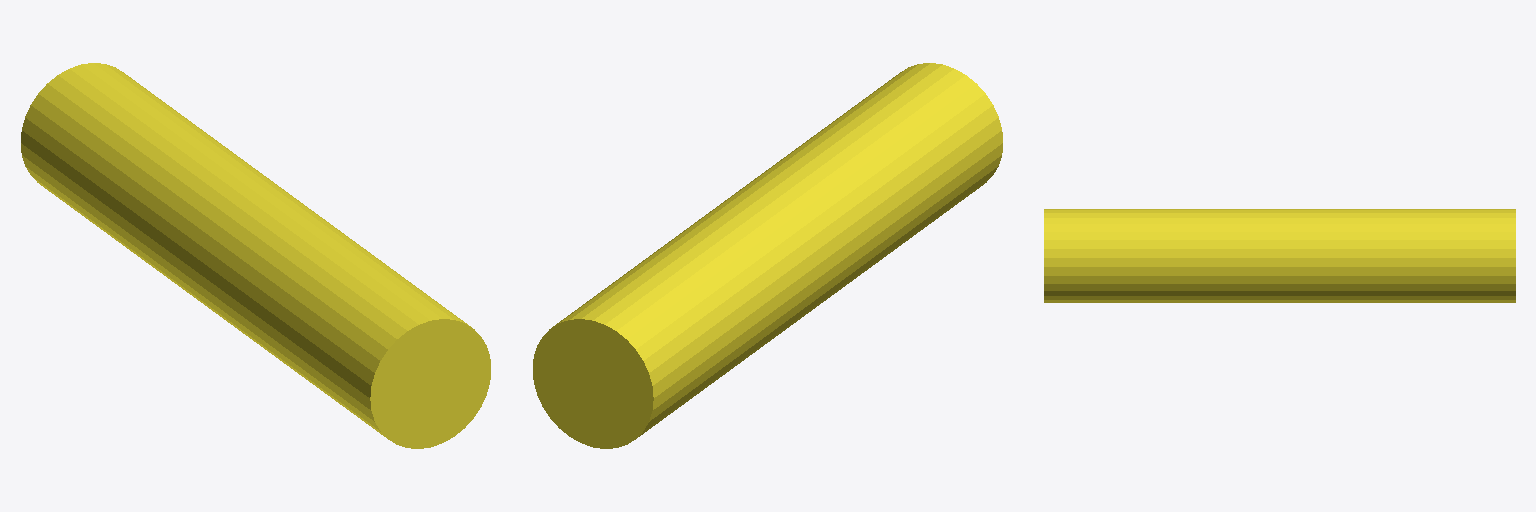
robot.urdf — ur5e:
<?xml version="1.0" encoding="utf-8"?>
<!-- =================================================================================== -->
<!-- |    This document was autogenerated by xacro from ur5e_robot.urdf.xacro          | -->
<!-- |    EDITING THIS FILE BY HAND IS NOT RECOMMENDED                                 | -->
<!-- =================================================================================== -->
<robot name="ur5e" xmlns:xacro="http://ros.org/wiki/xacro">
  <link name="base_link">
    <visual>
      <geometry>
        <mesh filename="../meshes/ur5e/visual/base.dae"/>
      </geometry>
      <material name="LightGrey">
        <color rgba="0.7 0.7 0.7 1.0"/>
      </material>
    </visual>
    <collision>
      <geometry>
        <mesh filename="../meshes/ur5e/collision/base.stl" scale="1.0 1.0 1.0"/>
      </geometry>
    </collision>
    <inertial>
      <mass value="4.0"/>
      <origin rpy="0 0 0" xyz="0.0 0.0 0.0"/>
      <inertia ixx="0.00443333156" ixy="0.0" ixz="0.0" iyy="0.00443333156" iyz="0.0" izz="0.0072"/>
    </inertial>
  </link>
  <joint name="shoulder_pan_joint" type="revolute">
    <parent link="base_link"/>
    <child link="shoulder_link"/>
    <origin rpy="0.0 0.0 0.0" xyz="0.0 0.0 0.163"/>
    <axis xyz="0 0 1"/>
    <limit effort="150.0" lower="-6.28318530718" upper="6.28318530718" velocity="3.14"/>
    <dynamics damping="0.0" friction="0.0"/>
  </joint>
  <link name="shoulder_link">
    <visual>
      <geometry>
        <mesh filename="../meshes/ur5e/visual/shoulder.dae"/>
      </geometry>
      <material name="LightGrey">
        <color rgba="0.7 0.7 0.7 1.0"/>
      </material>
    </visual>
    <collision>
      <geometry>
        <mesh filename="../meshes/ur5e/collision/shoulder.stl" scale="1.0 1.0 1.0"/>
      </geometry>
    </collision>
    <inertial>
      <mass value="3.7"/>
      <origin rpy="0 0 0" xyz="0.0 0.0 0.0"/>
      <inertia ixx="0.010267495893" ixy="0.0" ixz="0.0" iyy="0.010267495893" iyz="0.0" izz="0.00666"/>
    </inertial>
  </link>
  <joint name="shoulder_lift_joint" type="revolute">
    <parent link="shoulder_link"/>
    <child link="upper_arm_link"/>
    <origin rpy="0.0 1.57079632679 0.0" xyz="0.0 0.138 0.0"/>
    <axis xyz="0 1 0"/>
    <limit effort="150.0" lower="-6.28318530718" upper="6.28318530718" velocity="3.14"/>
    <dynamics damping="0.0" friction="0.0"/>
  </joint>
  <link name="upper_arm_link">
    <visual>
      <geometry>
        <mesh filename="../meshes/ur5e/visual/upperarm.dae"/>
      </geometry>
      <material name="LightGrey">
        <color rgba="0.7 0.7 0.7 1.0"/>
      </material>
    </visual>
    <collision>
      <geometry>
        <mesh filename="../meshes/ur5e/collision/upperarm.stl" scale="1.0 1.0 1.0"/>
      </geometry>
    </collision>
    <inertial>
      <mass value="8.393"/>
      <origin rpy="0 0 0" xyz="0.0 0.0 0.2125"/>
      <inertia ixx="0.133885781862" ixy="0.0" ixz="0.0" iyy="0.133885781862" iyz="0.0" izz="0.0151074"/>
    </inertial>
  </link>
  <joint name="elbow_joint" type="revolute">
    <parent link="upper_arm_link"/>
    <child link="forearm_link"/>
    <origin rpy="0.0 0.0 0.0" xyz="0.0 -0.131 0.425"/>
    <axis xyz="0 1 0"/>
    <limit effort="150.0" lower="-3.14159265359" upper="3.14159265359" velocity="3.14"/>
    <dynamics damping="0.0" friction="0.0"/>
  </joint>
  <link name="forearm_link">
    <visual>
      <geometry>
        <mesh filename="../meshes/ur5e/visual/forearm.dae"/>
      </geometry>
      <material name="LightGrey">
        <color rgba="0.7 0.7 0.7 1.0"/>
      </material>
    </visual>
    <collision>
      <geometry>
        <mesh filename="../meshes/ur5e/collision/forearm.stl" scale="1.0 1.0 1.0"/>
      </geometry>
    </collision>
    <inertial>
      <mass value="2.275"/>
      <origin rpy="0 0 0" xyz="0.0 0.0 0.196"/>
      <inertia ixx="0.0311796208615" ixy="0.0" ixz="0.0" iyy="0.0311796208615" iyz="0.0" izz="0.004095"/>
    </inertial>
  </link>
  <joint name="wrist_1_joint" type="revolute">
    <parent link="forearm_link"/>
    <child link="wrist_1_link"/>
    <origin rpy="0.0 1.57079632679 0.0" xyz="0.0 0.0 0.392"/>
    <axis xyz="0 1 0"/>
    <limit effort="28.0" lower="-6.28318530718" upper="6.28318530718" velocity="6.28"/>
    <dynamics damping="0.0" friction="0.0"/>
  </joint>
  <link name="wrist_1_link">
    <visual>
      <geometry>
        <mesh filename="../meshes/ur5e/visual/wrist1.dae"/>
      </geometry>
      <material name="LightGrey">
        <color rgba="0.7 0.7 0.7 1.0"/>
      </material>
    </visual>
    <collision>
      <geometry>
        <mesh filename="../meshes/ur5e/collision/wrist1.stl" scale="1.0 1.0 1.0"/>
      </geometry>
    </collision>
    <inertial>
      <mass value="1.219"/>
      <origin rpy="0 0 0" xyz="0.0 0.127 0.0"/>
      <inertia ixx="0.00255989897604" ixy="0.0" ixz="0.0" iyy="0.00255989897604" iyz="0.0" izz="0.0021942"/>
    </inertial>
  </link>
  <joint name="wrist_2_joint" type="revolute">
    <parent link="wrist_1_link"/>
    <child link="wrist_2_link"/>
    <origin rpy="0.0 0.0 0.0" xyz="0.0 0.127 0.0"/>
    <axis xyz="0 0 1"/>
    <limit effort="28.0" lower="-6.28318530718" upper="6.28318530718" velocity="6.28"/>
    <dynamics damping="0.0" friction="0.0"/>
  </joint>
  <link name="wrist_2_link">
    <visual>
      <geometry>
        <mesh filename="../meshes/ur5e/visual/wrist2.dae"/>
      </geometry>
      <material name="LightGrey">
        <color rgba="0.7 0.7 0.7 1.0"/>
      </material>
    </visual>
    <collision>
      <geometry>
        <mesh filename="../meshes/ur5e/collision/wrist2.stl" scale="1.0 1.0 1.0"/>
      </geometry>
    </collision>
    <inertial>
      <mass value="1.219"/>
      <origin rpy="0 0 0" xyz="0.0 0.0 0.1"/>
      <inertia ixx="0.00255989897604" ixy="0.0" ixz="0.0" iyy="0.00255989897604" iyz="0.0" izz="0.0021942"/>
    </inertial>
  </link>
  <joint name="wrist_3_joint" type="revolute">
    <parent link="wrist_2_link"/>
    <child link="wrist_3_link"/>
    <origin rpy="0.0 0.0 0.0" xyz="0.0 0.0 0.1"/>
    <axis xyz="0 1 0"/>
    <limit effort="28.0" lower="-6.28318530718" upper="6.28318530718" velocity="6.28"/>
    <dynamics damping="0.0" friction="0.0"/>
  </joint>
  <link name="wrist_3_link">
    <visual>
      <geometry>
        <mesh filename="../meshes/ur5e/visual/wrist3.dae"/>
      </geometry>
      <material name="LightGrey">
        <color rgba="0.7 0.7 0.7 1.0"/>
      </material>
    </visual>
    <collision>
      <geometry>
        <mesh filename="../meshes/ur5e/collision/wrist3.stl" scale="1.0 1.0 1.0"/>
      </geometry>
    </collision>
    <inertial>
      <mass value="0.1879"/>
      <origin rpy="1.57079632679 0 0" xyz="0.0 0.0771 0.0"/>
      <inertia ixx="9.89041005217e-05" ixy="0.0" ixz="0.0" iyy="9.89041005217e-05" iyz="0.0" izz="0.0001321171875"/>
    </inertial>
  </link>
  <joint name="ee_fixed_joint" type="fixed">
    <parent link="wrist_3_link"/>
    <child link="ee_link"/>
    <origin rpy="0.0 0.0 1.57079632679" xyz="0.0 0.1 0.0"/>
  </joint>
  <link name="ee_link">
    <collision>
      <geometry>
        <box size="0.01 0.01 0.01"/>
      </geometry>
      <origin rpy="0 0 0" xyz="-0.01 0 0"/>
    </collision>
  </link>
  <!-- ROS base_link to UR 'Base' Coordinates transform -->
  <link name="base"/>
  <joint name="base_link-base_fixed_joint" type="fixed">
    <!-- NOTE: this rotation is only needed as long as base_link itself is
                 not corrected wrt the real robot (ie: rotated over 180
                 degrees)
      -->
    <origin rpy="0 0 -3.14159265359" xyz="0 0 0"/>
    <parent link="base_link"/>
    <child link="base"/>
  </joint>
  <!-- Frame coincident with all-zeros TCP on UR controller -->
  <link name="tool0"/>
  <joint name="wrist_3_link-tool0_fixed_joint" type="fixed">
    <origin rpy="-1.57079632679 0 0" xyz="0 0.1 0"/>
    <parent link="wrist_3_link"/>
    <child link="tool0"/>
  </joint>
  <link name="world"/>
  <joint name="world_joint" type="fixed">
    <parent link="world"/>
    <child link="base_link"/>
    <origin rpy="0.0 0.0 0.0" xyz="0.0 0.0 0.0"/>
  </joint>

  <!-- peh -->
  <link name="peg">
    <visual>
      <geometry>
        <cylinder length="0.15" radius="0.015"/>
      </geometry>
    </visual>
    <collision>
      <geometry>
        <cylinder length="0.15" radius="0.015"/>
      </geometry>
    </collision>
  </link>
  <joint name="peg_fixed_joint" type="fixed">
    <origin rpy="0.0 0.0 0.0" xyz="0.0 0.0 0.075"/>
    <parent link="tool0"/>
    <child link="peg"/>
  </joint>

</robot>

--- What the picture shows (computed from the rendered views, not written in the file) ---
Views: 3 orthographic renders of the robot side by side, from view 1: azimuth 30°, elevation 25°; view 2: azimuth 150°, elevation 25°; view 3: azimuth 270°, elevation 25°.
Robot: ur5e — 12 links, 11 joints (6 revolute, 5 fixed); root link world; default pose: all joints at 0.
Links seen in each view (by area): view 1: peg; view 2: peg; view 3: peg.
Boxes of the visible links, <box> form: peg: <box>21,63,490,448</box>; peg: <box>533,63,1002,448</box>; peg: <box>1044,209,1515,302</box>.
Size in the robot's own frame: 0.03 by 0.15 by 0.03 metres.
0 mesh visuals loaded from 7 distinct referenced files (none loaded); not drawn: 7 (reference not matched to a file when rendering).